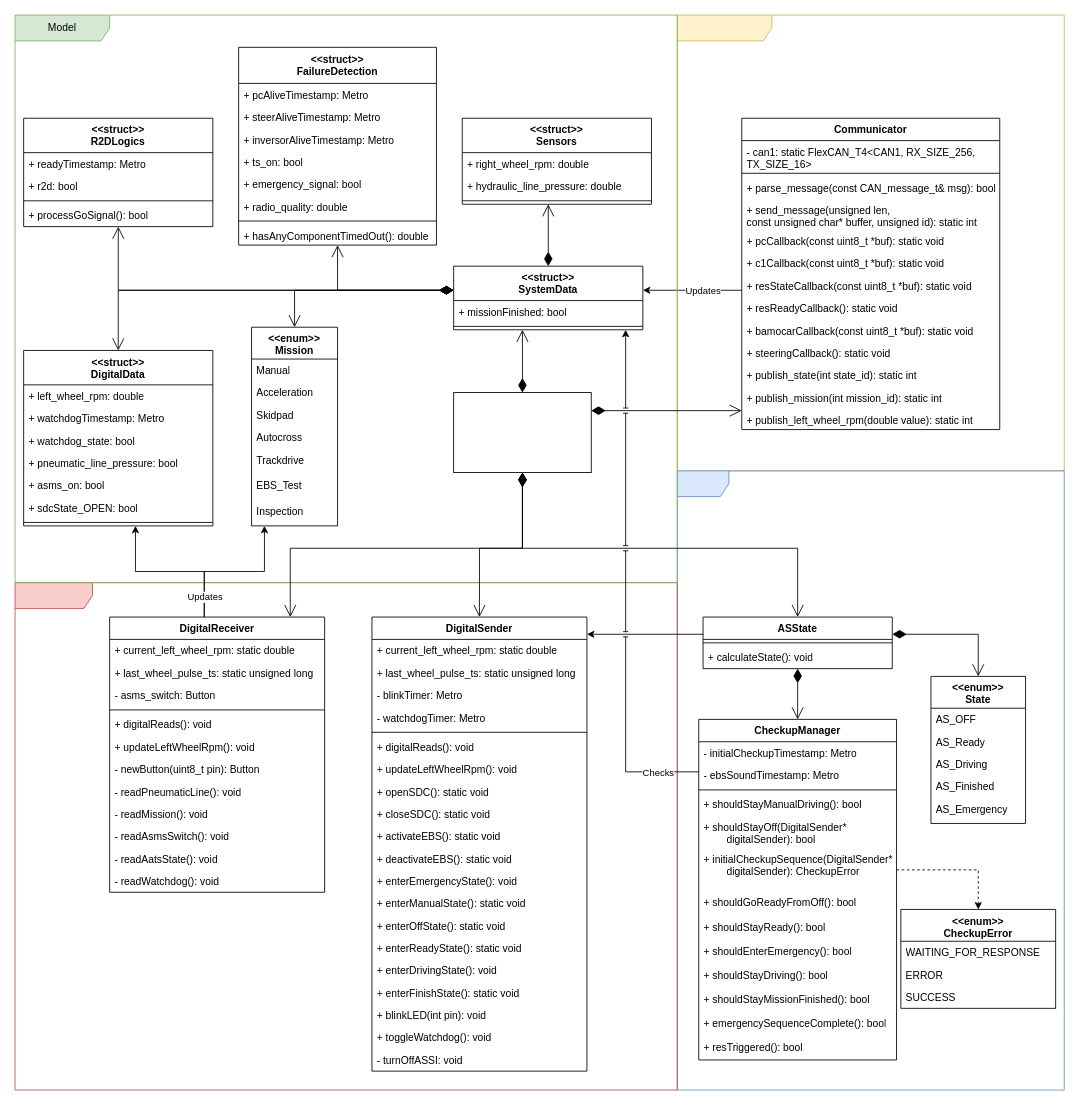
This 1079x1105 diagram has some shape labels left out. The shapes that lost their labels are listed below. From the top down, each one's centre as x and y in pixels, then its label:
At pixel 870 242: "Communication".
At pixel 522 432: "Main Loop + Owns Global Variables + setup(): void + loop(): void".
At pixel 870 780: "Logic".
At pixel 345 836: "Hardware".
